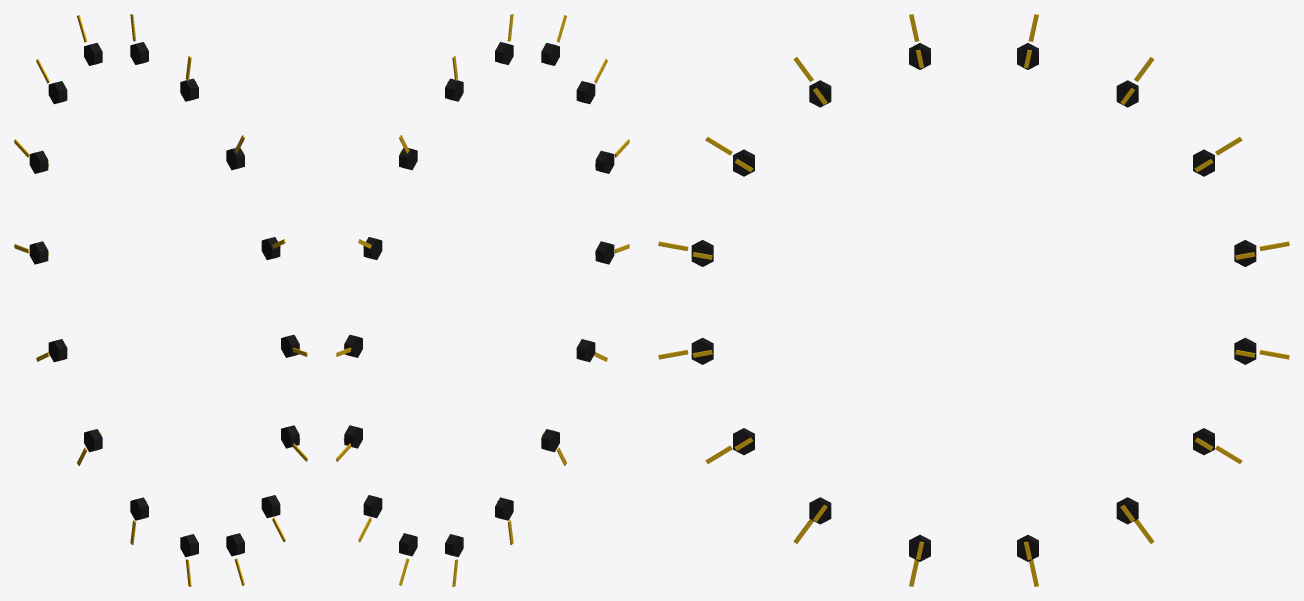
File: shrink_disc_bolts_ok.glb
3 views of the same model, side by side, from view 1: azimuth 30°, elevation 25°; view 2: azimuth 150°, elevation 25°; view 3: azimuth 270°, elevation 25° (orthographic). The views are drawn at different scales.
Visible parts, largest first — view 1: shrink_disc_bolts_ok; view 2: shrink_disc_bolts_ok; view 3: shrink_disc_bolts_ok.
Part boxes in pixels (left/top/right/bottom): shrink_disc_bolts_ok: left=14, top=14, right=307, bottom=586; shrink_disc_bolts_ok: left=336, top=14, right=629, bottom=586; shrink_disc_bolts_ok: left=658, top=14, right=1289, bottom=586.
Bounding box in the file's own units: 0.016 × 0.8446 × 0.8446.
